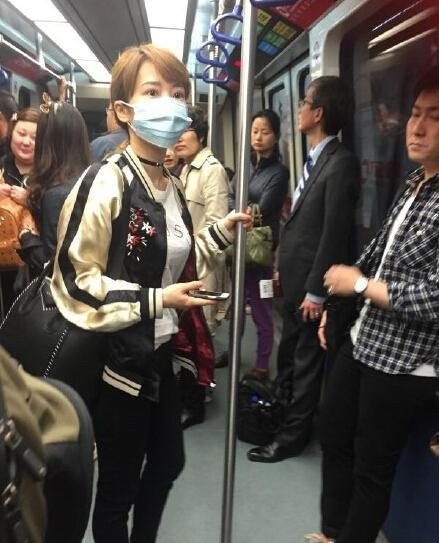NONE: (405, 104, 439, 162), (295, 91, 324, 132), (172, 125, 201, 159), (13, 126, 40, 160), (251, 126, 272, 151)
OK: (127, 78, 192, 143)
